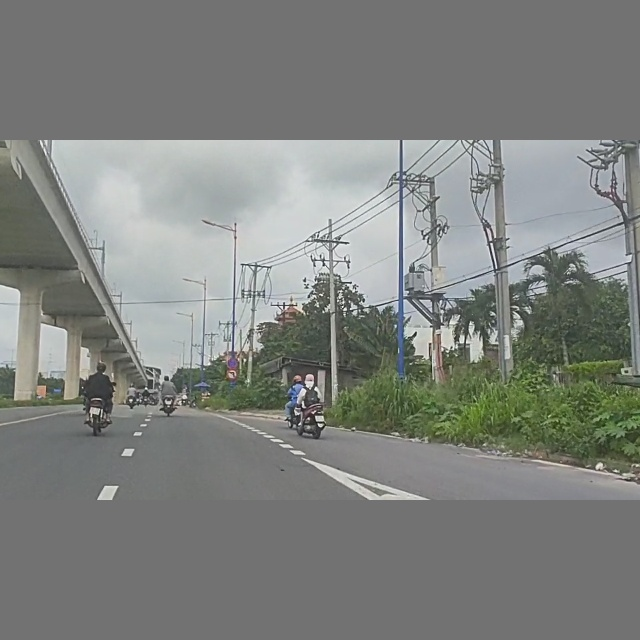P.123a: (226, 369, 238, 381)
P.130: (226, 357, 239, 369)
